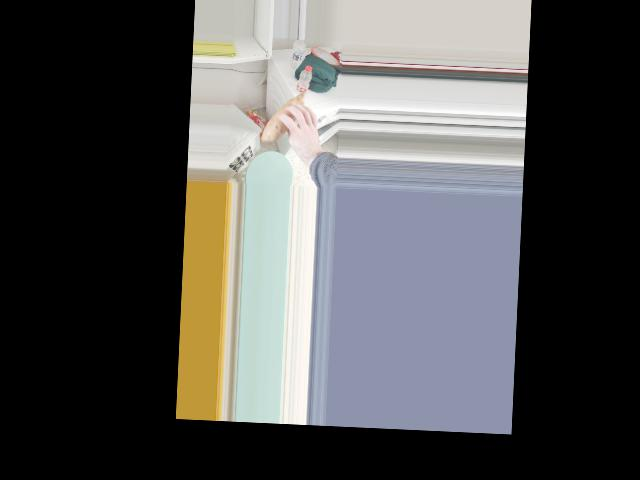sweet_potato: (263, 93, 315, 137)
